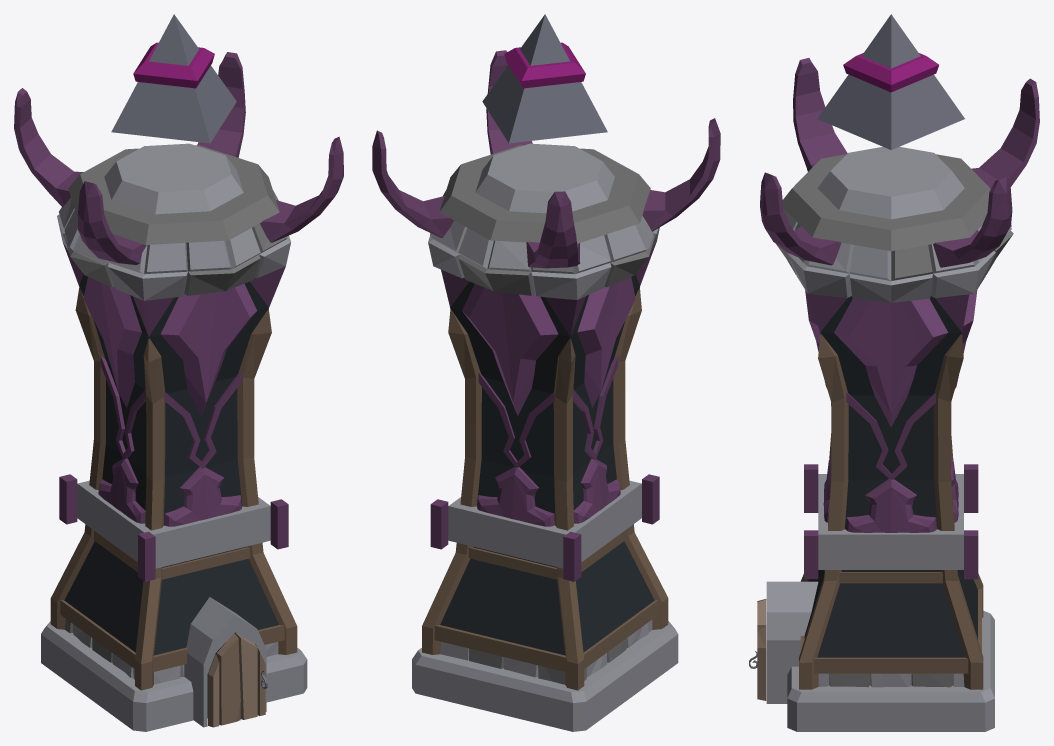
Rendered from Poison_LVL3.fbx.
3 views of the same model, side by side, from view 1: azimuth 30°, elevation 25°; view 2: azimuth 150°, elevation 25°; view 3: azimuth 270°, elevation 25° (orthographic).
Parts seen in each view (by area): view 1: Poison_tower_LVL_3, Poison_tower_LVL_3.001; view 2: Poison_tower_LVL_3, Poison_tower_LVL_3.001; view 3: Poison_tower_LVL_3, Poison_tower_LVL_3.001.
Part boxes in pixels (bbox=[...]): Poison_tower_LVL_3: bbox=[14, 52, 343, 731]; Poison_tower_LVL_3.001: bbox=[111, 14, 236, 143]; Poison_tower_LVL_3: bbox=[372, 50, 720, 731]; Poison_tower_LVL_3.001: bbox=[482, 14, 607, 143]; Poison_tower_LVL_3: bbox=[749, 58, 1039, 731]; Poison_tower_LVL_3.001: bbox=[817, 14, 964, 149].
Bounding box in the file's own units: 610 × 1528 × 597.
